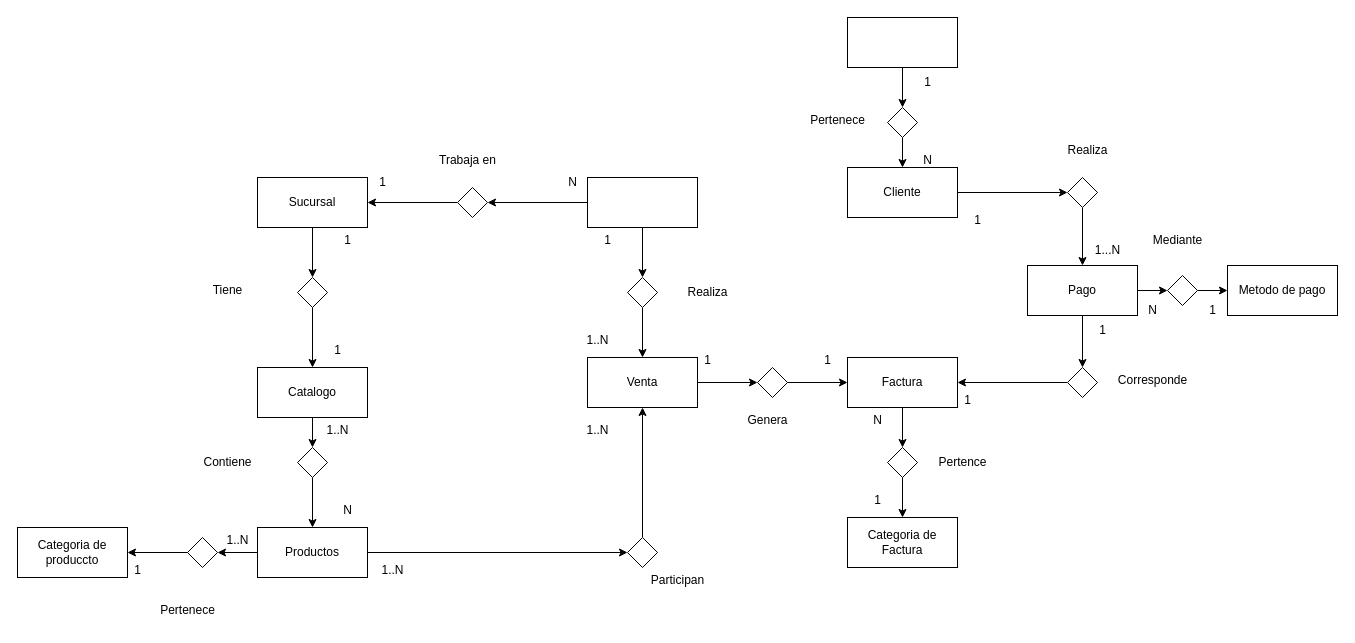
Some shapes in this 1355 by 643 pixel diagram are drawn without their labels. Each missing label, with the centre of its shape:
"Categoria de cliente" belongs at [902,42].
"Empleado" belongs at [642,202].
